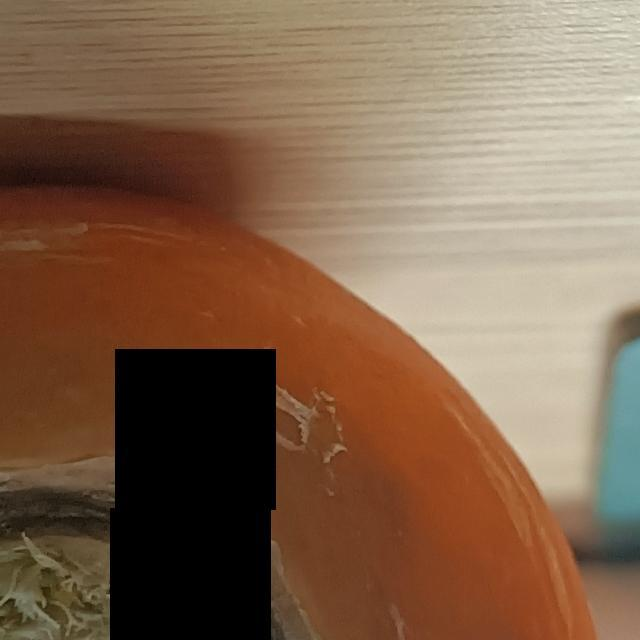carrot: (1, 171, 630, 640)
